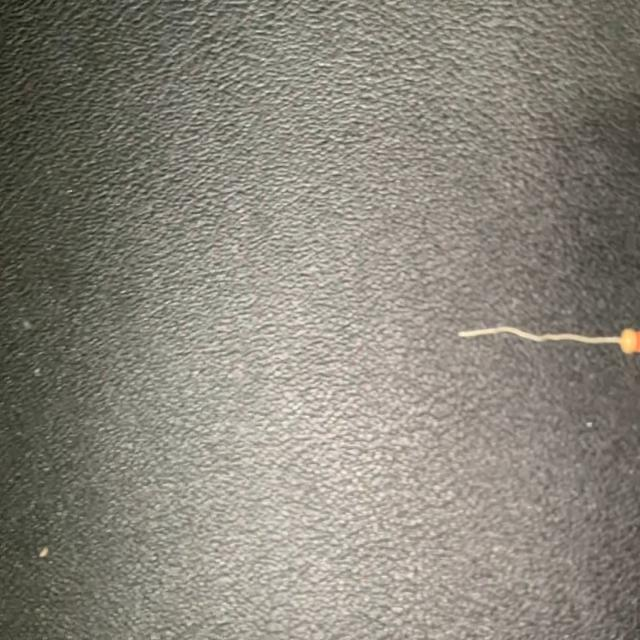resistor: (453, 315, 640, 360)
